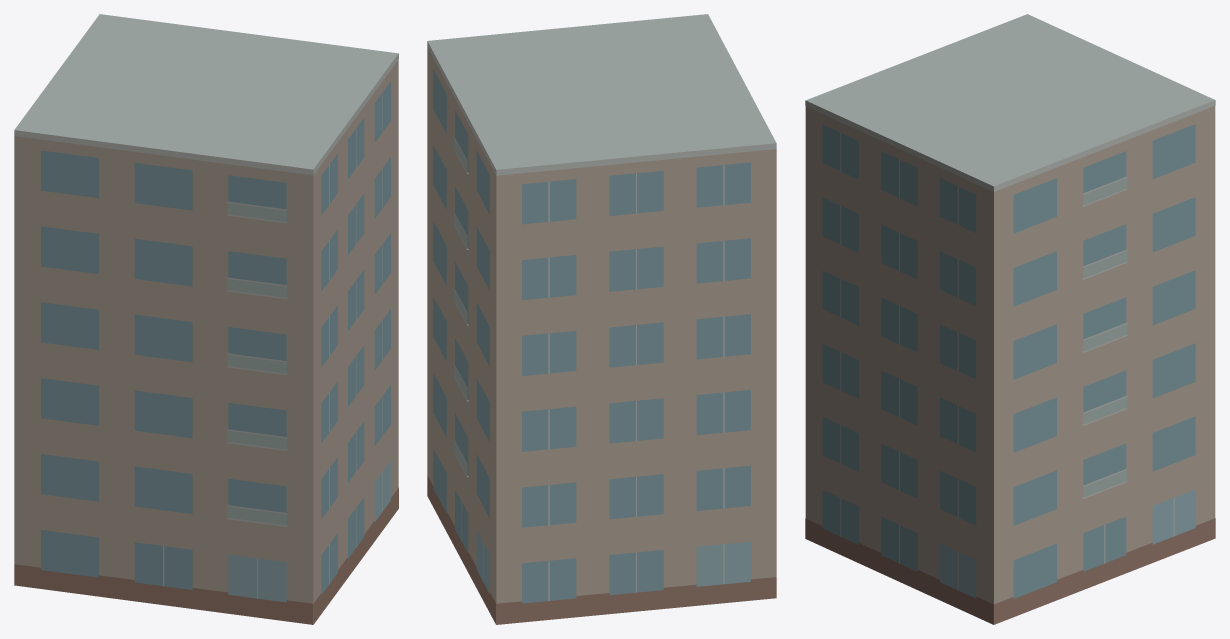
File: survey-upis-32605845.glb
3 renders of one model, left to right at view 1: azimuth 30°, elevation 25°; view 2: azimuth 150°, elevation 25°; view 3: azimuth 270°, elevation 25°, orthographic. The views are drawn at different scales.
Parts seen in each view (by area): view 1: survey-upis-32605845.tmp; view 2: survey-upis-32605845.tmp; view 3: survey-upis-32605845.tmp.
Boxes of the visible parts, left/top/right/bottom form: survey-upis-32605845.tmp: left=14, top=14, right=398, bottom=624; survey-upis-32605845.tmp: left=427, top=14, right=776, bottom=624; survey-upis-32605845.tmp: left=805, top=14, right=1215, bottom=624.
Size of the model in its own units: 15.95 by 18.9 by 16.02.
